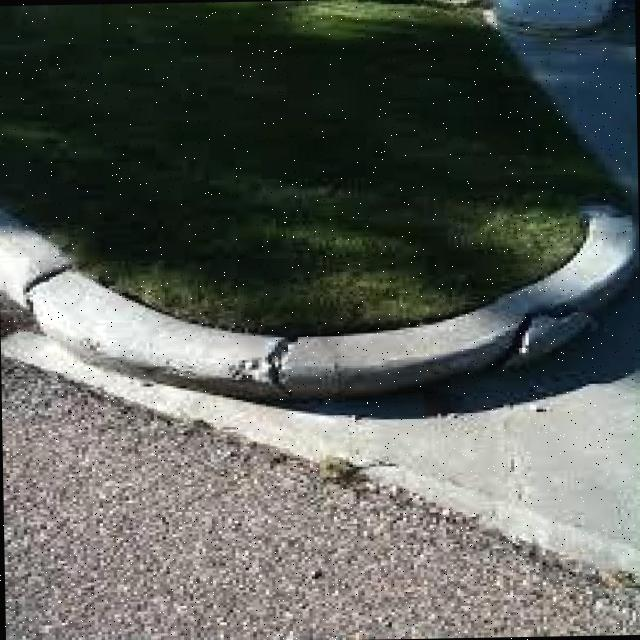curb: (1, 305, 289, 400), (310, 318, 531, 407), (516, 248, 632, 328)
